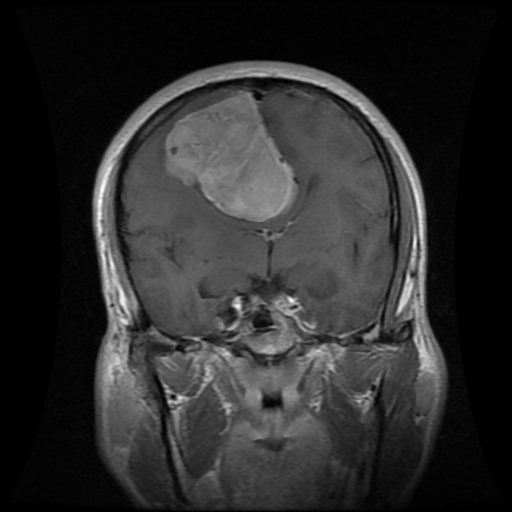meningioma: (165, 91, 296, 223)
